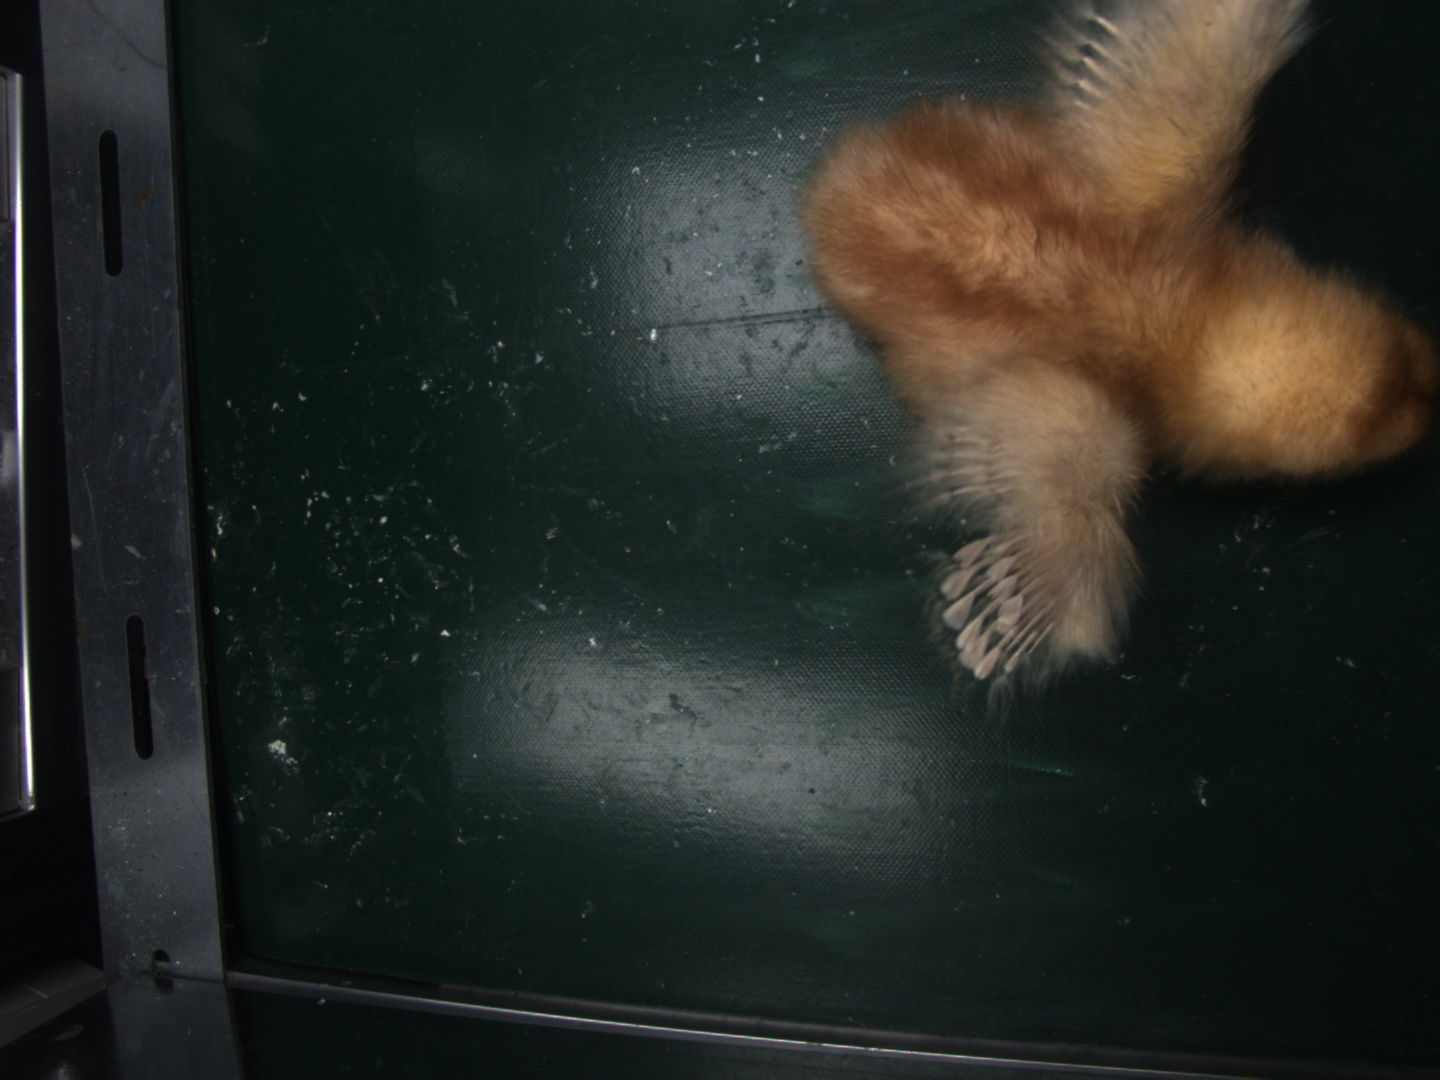female: (950, 533, 1057, 682)
